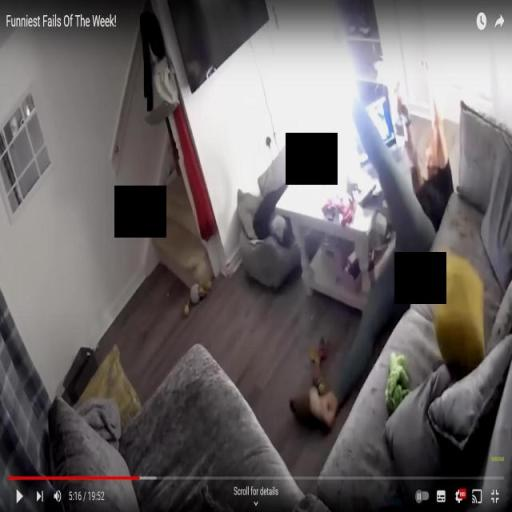Fall: (306, 95, 455, 436)
